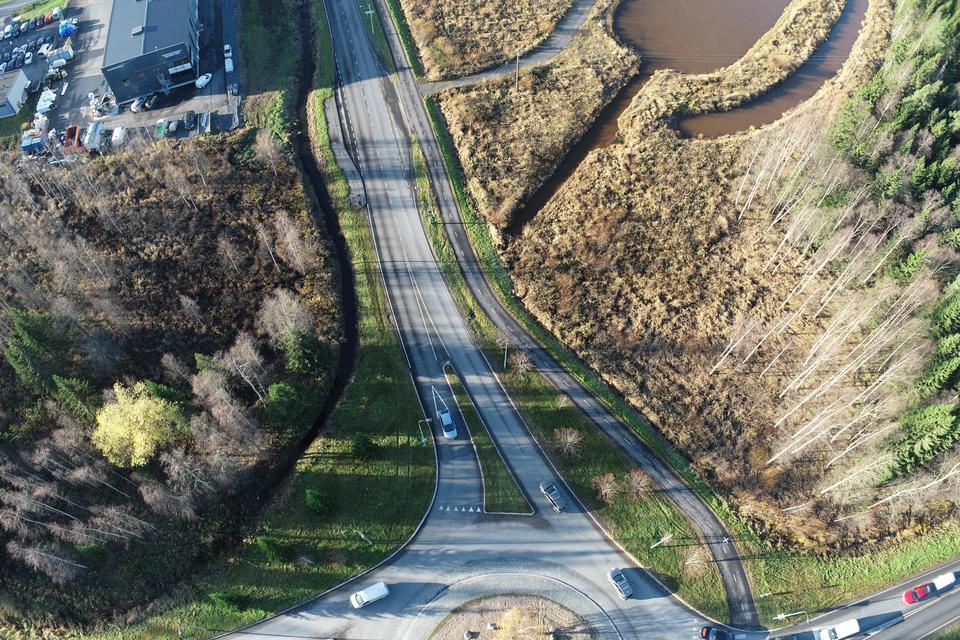intersection: (313, 62, 468, 138), (713, 575, 779, 640)
roundabout: (292, 472, 696, 640)
